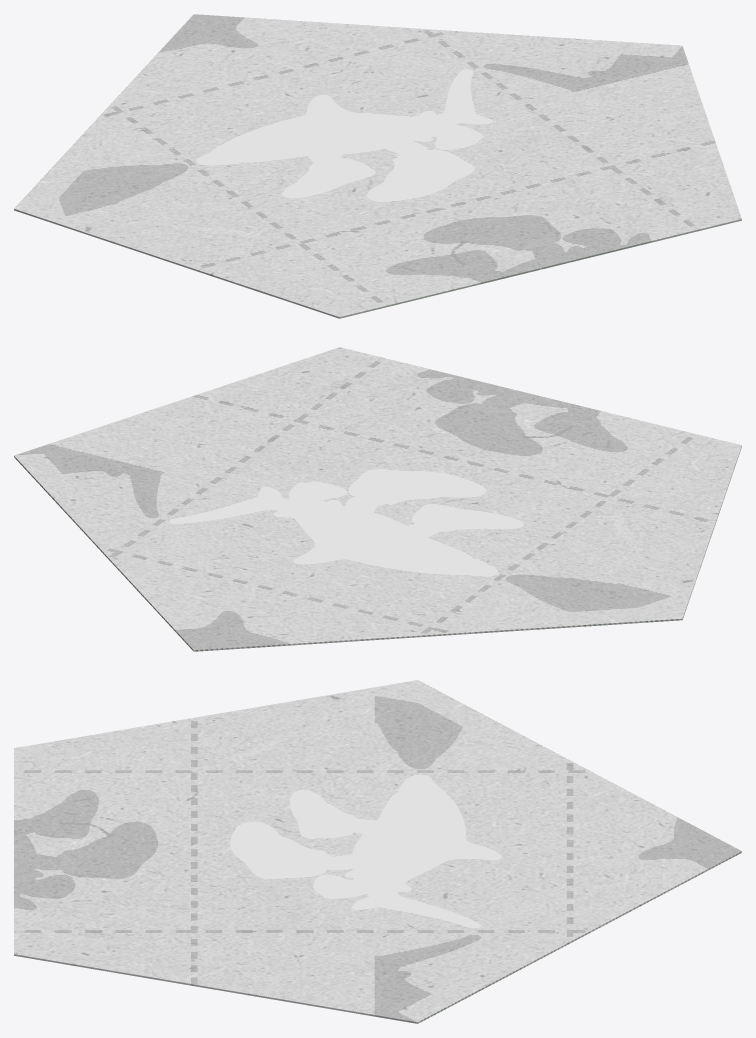
The model's file is folds2.glb.
3 renders of one model, top to bottom at view 1: azimuth 30°, elevation 25°; view 2: azimuth 150°, elevation 25°; view 3: azimuth 270°, elevation 25°, orthographic. The views are drawn at different scales.
Visible parts, largest first — view 1: folds_1, folds_8, folds_2, folds_6, folds_4, folds_9, folds_7; view 2: folds_1, folds_8, folds_2, folds_6, folds_4, folds_9, folds_7; view 3: folds_1, folds_8, folds_6, folds_2, folds_4, folds_7, folds_9.
Part boxes in pixels (bbox=[...]): folds_1: bbox=[122, 37, 613, 245]; folds_8: bbox=[302, 169, 696, 307]; folds_2: bbox=[14, 113, 300, 271]; folds_6: bbox=[433, 31, 715, 168]; folds_4: bbox=[110, 14, 432, 113]; folds_9: bbox=[199, 245, 384, 318]; folds_7: bbox=[614, 144, 741, 231]; folds_1: bbox=[121, 419, 613, 626]; folds_8: bbox=[302, 358, 696, 494]; folds_2: bbox=[433, 495, 716, 634]; folds_6: bbox=[14, 394, 301, 550]; folds_4: bbox=[110, 551, 432, 651]; folds_9: bbox=[614, 434, 741, 521]; folds_7: bbox=[200, 347, 384, 418]; folds_1: bbox=[188, 771, 566, 930]; folds_8: bbox=[14, 771, 188, 930]; folds_6: bbox=[188, 931, 566, 1023]; folds_2: bbox=[188, 680, 566, 771]; folds_4: bbox=[567, 771, 741, 932]; folds_7: bbox=[14, 931, 188, 984]; folds_9: bbox=[14, 719, 188, 771].
Bounding box in the file's own units: 4.46 × 0.01 × 4.01.
Materials: 2 (2 with a texture image).
